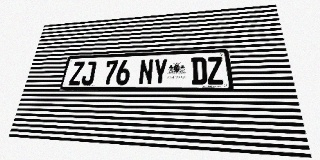6: (115, 60, 131, 85)
7: (102, 60, 118, 85)
D: (191, 57, 207, 85)
J: (80, 61, 97, 85)
N: (138, 59, 154, 85)
Y: (153, 58, 168, 85)
Z: (206, 56, 224, 85), (68, 61, 85, 85)
